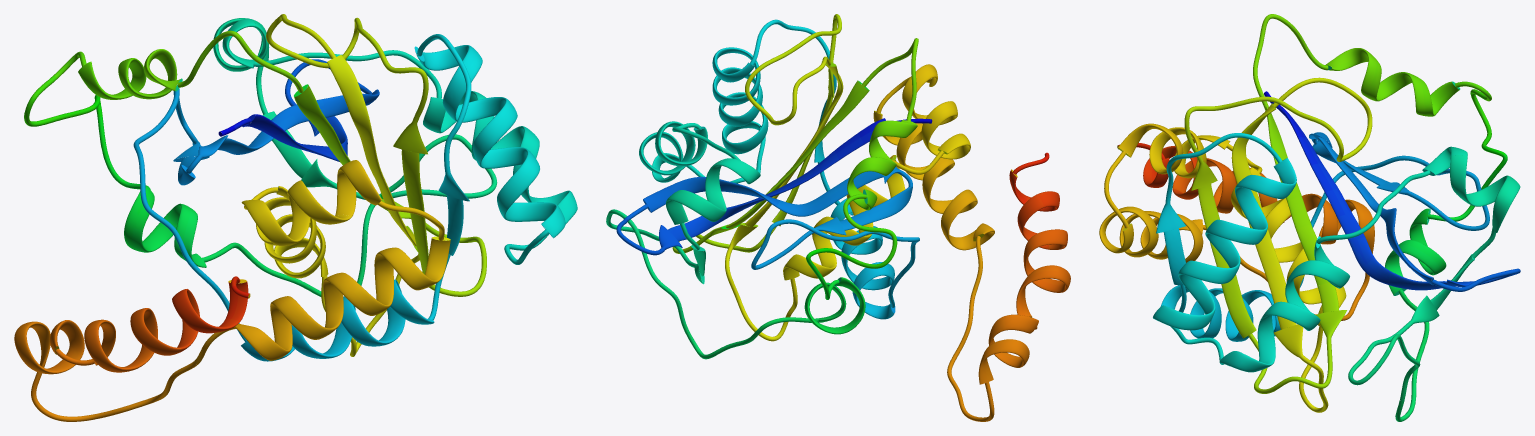
File: slipknot.glb
3 views of the same model, side by side, from view 1: azimuth 30°, elevation 25°; view 2: azimuth 150°, elevation 25°; view 3: azimuth 270°, elevation 25° (orthographic). The views are drawn at different scales.
Parts seen in each view (by area): view 1: subnode_11, subnode_3, subnode_12, subnode_2, subnode_6, subnode_10, subnode_7, subnode_4, subnode_9, subnode_8, subnode_5, subnode_0 (+3 smaller); view 2: subnode_12, subnode_0, subnode_11, subnode_10, subnode_7, subnode_1, subnode_3, subnode_5, subnode_6, subnode_4, subnode_2, subnode_9 (+2 smaller); view 3: subnode_3, subnode_7, subnode_4, subnode_8, subnode_0, subnode_9, subnode_5, subnode_10, subnode_11, subnode_2, subnode_6, subnode_12 (+2 smaller).
Part boxes in pixels (<box>): subnode_11: <box>194,160,450,364</box>; subnode_3: <box>415,34,565,264</box>; subnode_12: <box>14,308,196,421</box>; subnode_2: <box>171,143,469,361</box>; subnode_6: <box>24,75,365,296</box>; subnode_10: <box>241,180,353,339</box>; subnode_7: <box>53,30,350,165</box>; subnode_4: <box>222,18,577,263</box>; subnode_9: <box>266,14,419,356</box>; subnode_8: <box>354,17,486,296</box>; subnode_5: <box>213,18,497,263</box>; subnode_0: <box>220,59,379,161</box>; subnode_12: <box>947,229,1070,421</box>; subnode_0: <box>616,118,931,255</box>; subnode_11: <box>873,64,994,296</box>; subnode_10: <box>783,101,970,317</box>; subnode_7: <box>749,38,918,229</box>; subnode_1: <box>751,166,919,269</box>; subnode_3: <box>712,19,829,173</box>; subnode_5: <box>606,159,726,324</box>; subnode_6: <box>682,225,897,359</box>; subnode_4: <box>639,121,760,184</box>; subnode_2: <box>814,74,915,319</box>; subnode_9: <box>725,56,843,341</box>; subnode_3: <box>1153,133,1296,344</box>; subnode_7: <box>1253,14,1491,286</box>; subnode_4: <box>1189,146,1467,372</box>; subnode_8: <box>1184,96,1346,393</box>; subnode_0: <box>1264,91,1520,291</box>; subnode_9: <box>1231,77,1372,412</box>; subnode_5: <box>1348,155,1520,401</box>; subnode_10: <box>1149,127,1346,384</box>; subnode_11: <box>1099,123,1245,265</box>; subnode_2: <box>1156,180,1326,341</box>; subnode_6: <box>1385,89,1507,421</box>; subnode_12: <box>1172,158,1374,320</box>.
Bounding box in the file's own units: 62.07 × 47.09 × 51.35.
